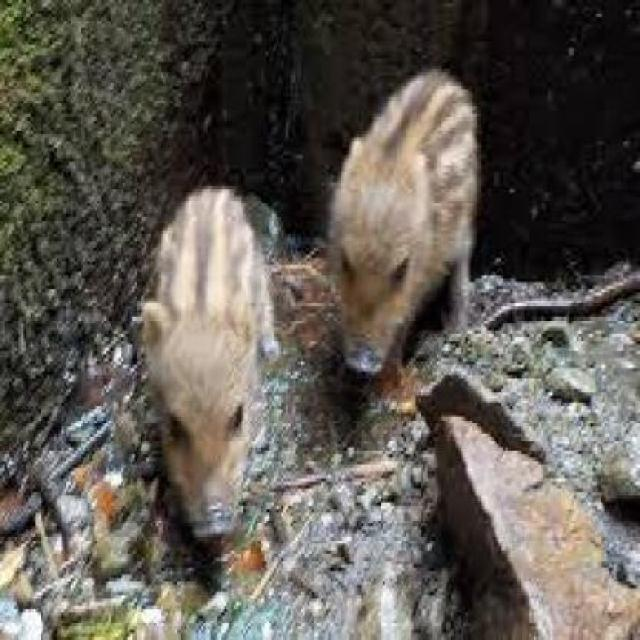wildboar: (132, 184, 283, 545), (325, 68, 486, 375)
